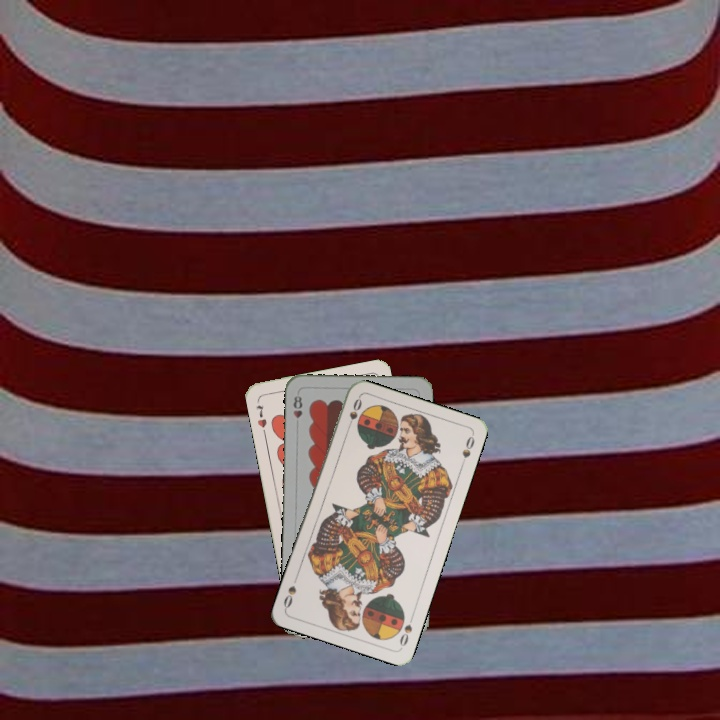H7: (252, 401, 270, 430)
H8: (289, 392, 305, 420)
SO: (395, 611, 417, 649), (343, 394, 364, 433)
